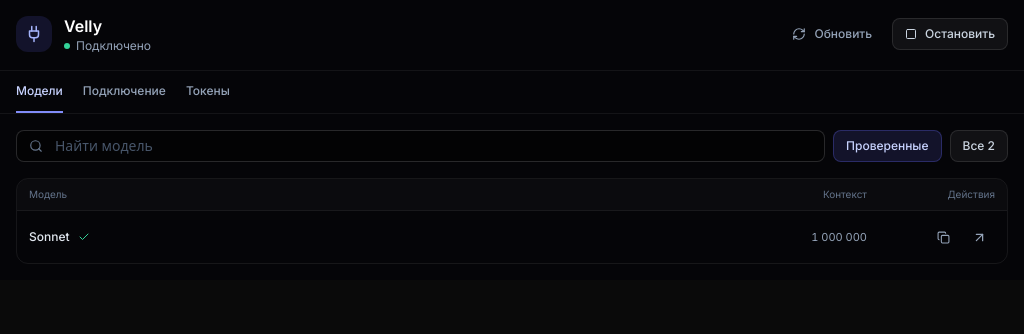
it: shows searchable models without setup fields and never probes on load
Expected: the text "Sonnet" is shown, [29, 229, 70, 245]
Expected: the text "Other" is not shown
Click the button "Все 2". click: (979,146)
box: [950, 130, 1008, 162]
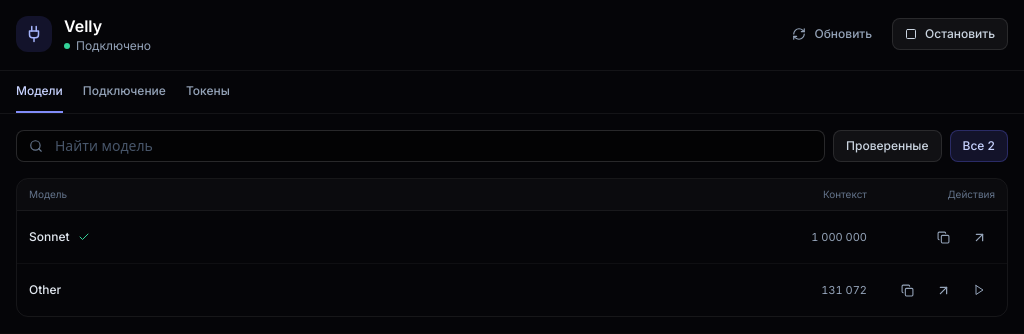
Now the text "Other" is shown, box [29, 282, 61, 298]
Type "other" into the field named "Поиск моделей". click: (434,146)
box: [43, 128, 824, 164]
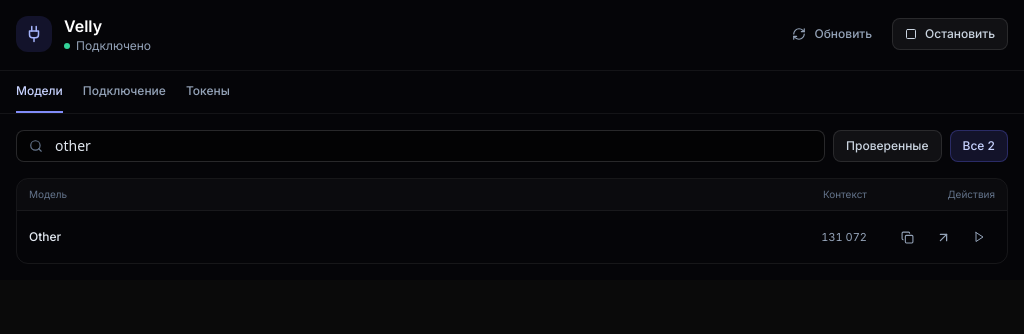
Now the text "Sonnet" is gone
